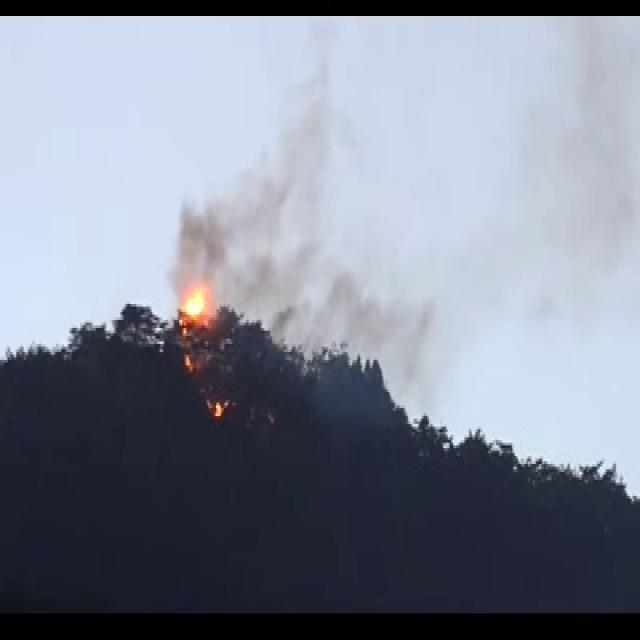Fire: (182, 293, 205, 326)
Smoke: (181, 225, 227, 270)
